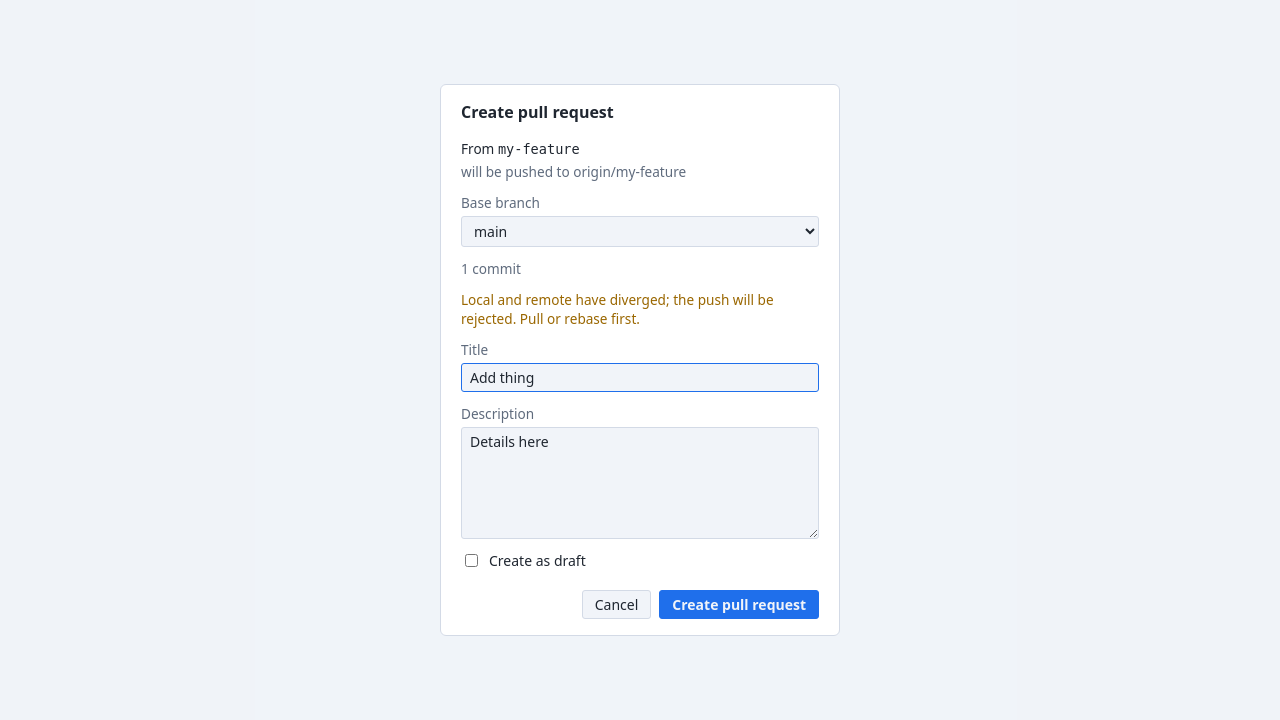
Test: CreatePullDialog › warns when diverged and shows an inline error on a rejected push
The width and height of the screenshot is (1280, 720).
expect the text "have diverged" is shown: met, box [461,290,774,328]
Click the button "Create pull request" at (739,604), box [659,590,819,619]
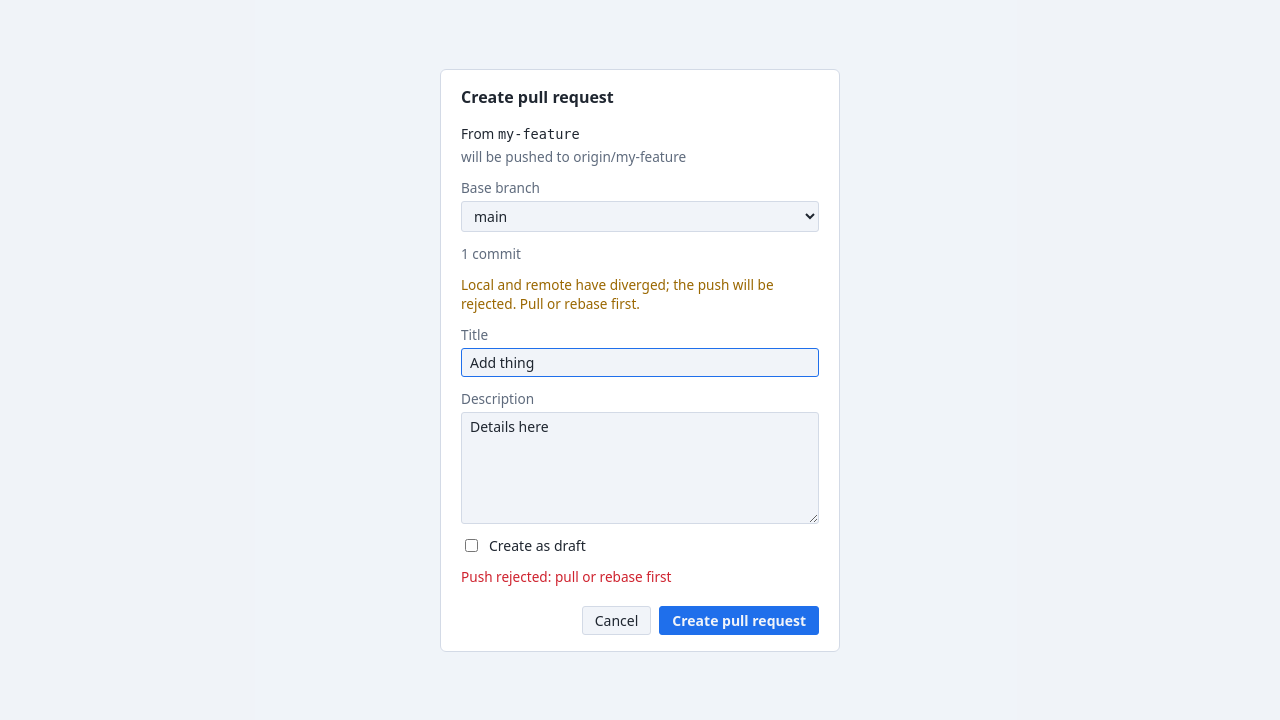
expect the text "Push rejected: pull or rebase first" is shown: met, box [461,566,672,586]
